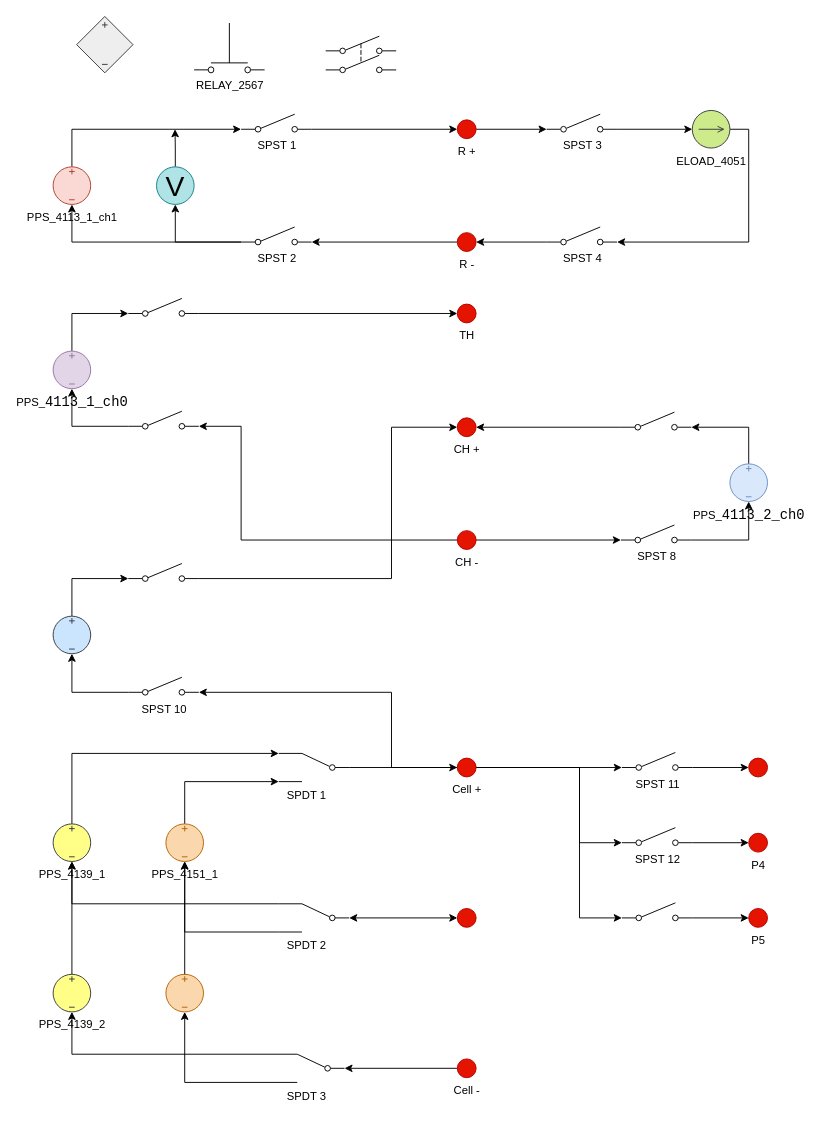
The diagram is 821 pixels wide and 1127 high, and some of its shapes have lost their labels. Each missing label, with the box of its shape:
Cell Mid: (456, 908, 476, 927)
DMM_4080: (156, 166, 194, 204)
DPST option: (325, 35, 396, 73)
P109: (748, 757, 768, 777)
PPS_ 4113_2_ch1: (52, 615, 91, 654)
PPS_4151_2: (165, 973, 204, 1012)
Relay Power Supply: (76, 16, 133, 73)
SPST 13: (621, 902, 692, 922)
SPST 5: (127, 298, 199, 317)
SPST 6: (127, 410, 199, 430)
SPST 7: (620, 411, 691, 431)
SPST 9: (127, 563, 199, 582)
